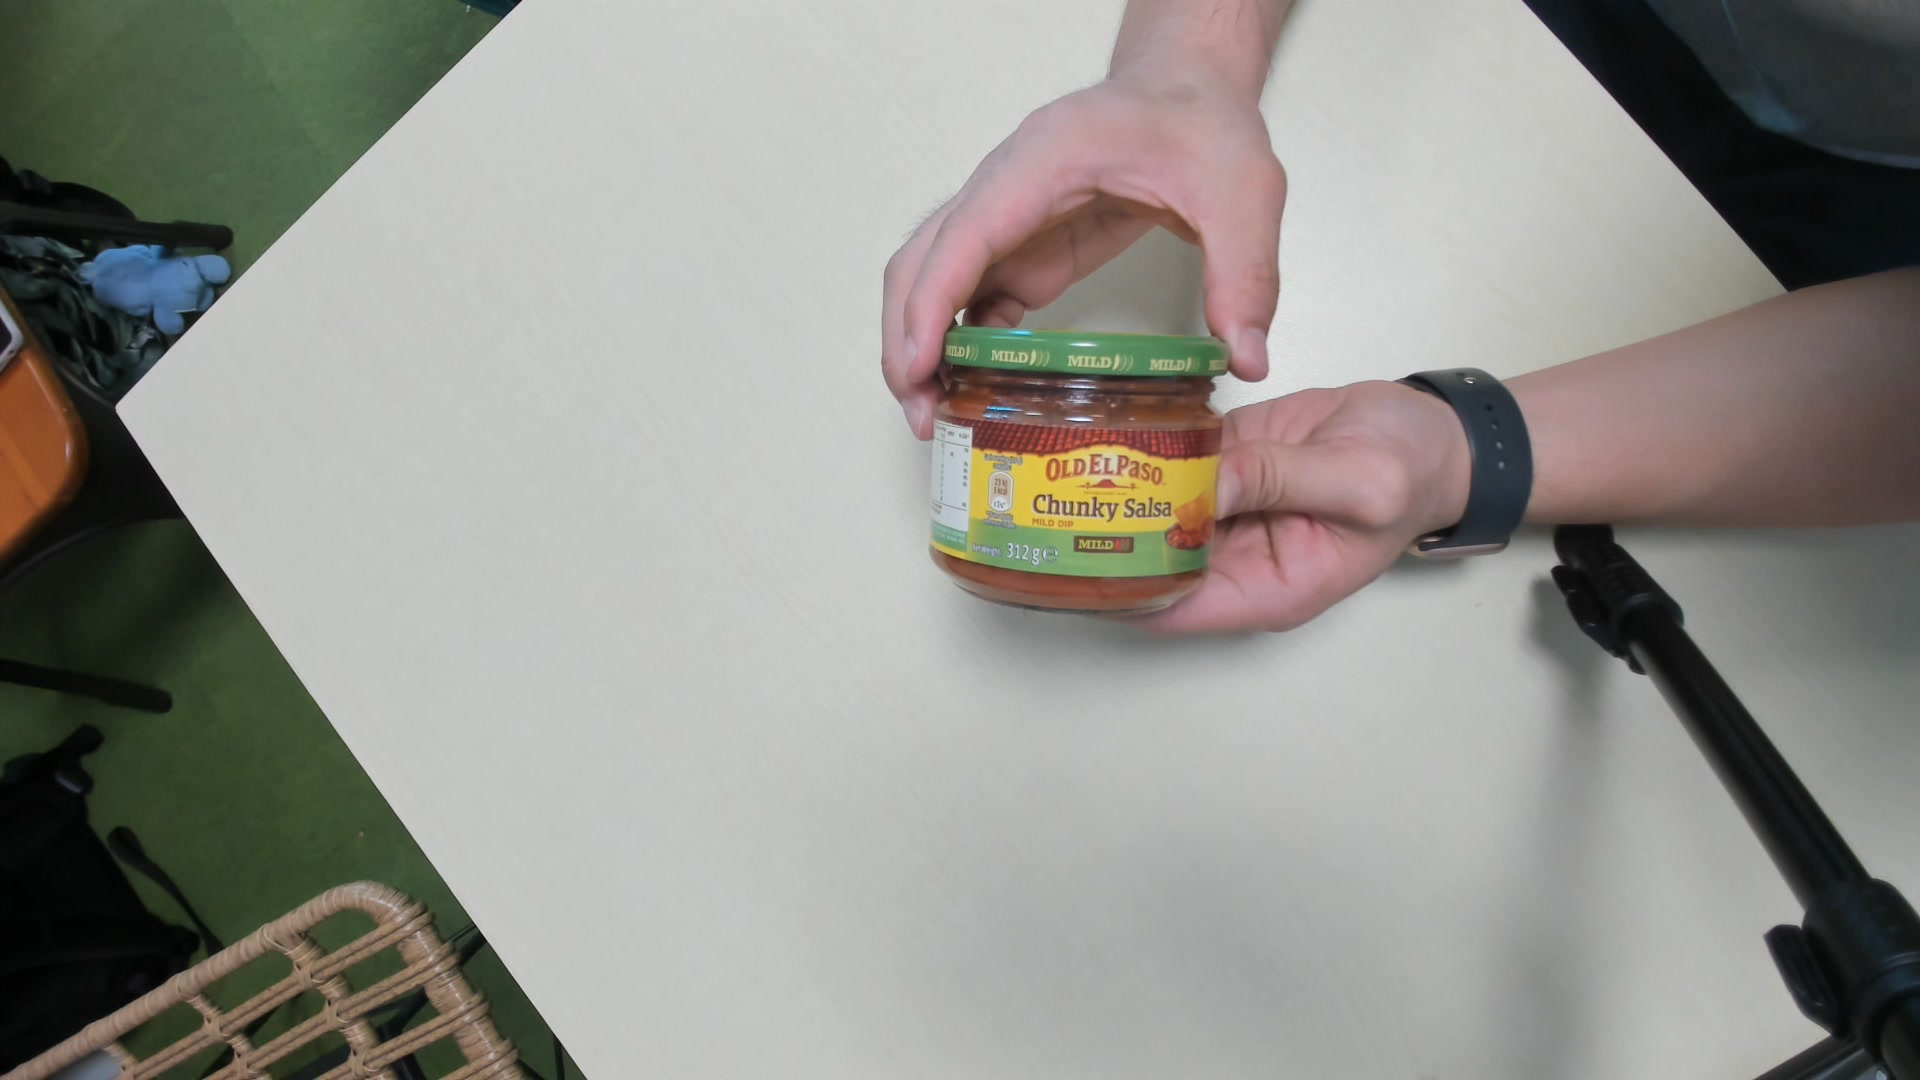OtherSauceDressing_300-399g_NonHalal_NonHealthy: (918, 320, 1233, 622)
